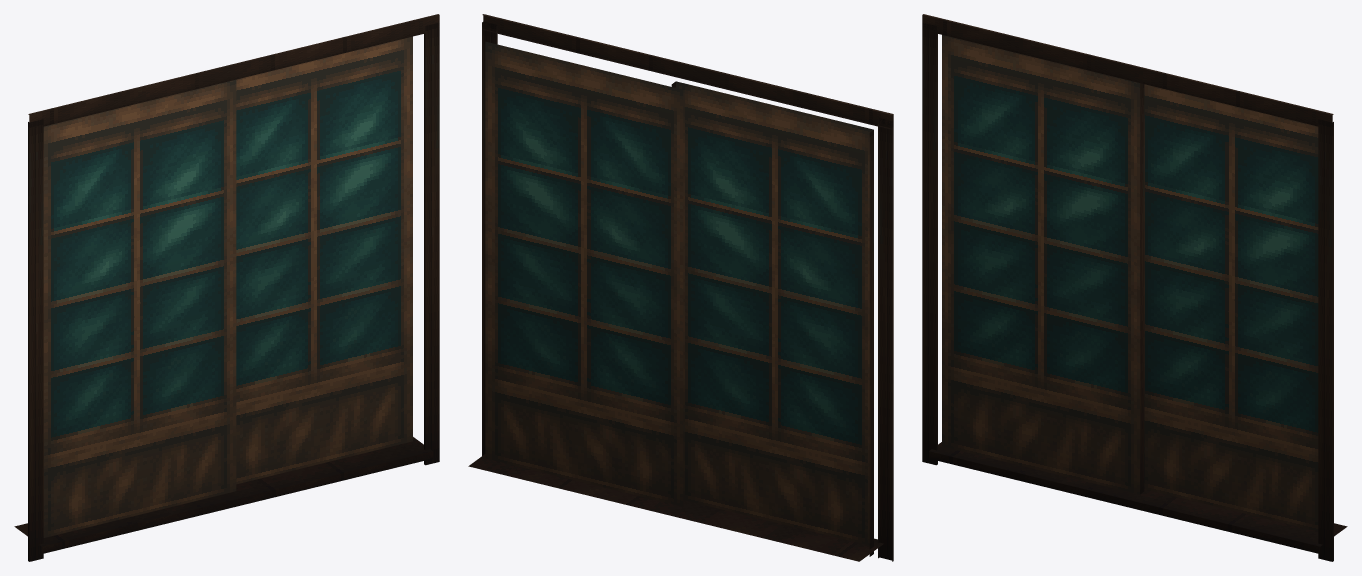
File: prop_sash-16-17-0.glb
The picture shows the model from 3 angles, left to right: view 1: azimuth 30°, elevation 25°; view 2: azimuth 150°, elevation 25°; view 3: azimuth 330°, elevation 25°; orthographic projection.
Parts seen in each view (by area): view 1: prop_sash-16-17-0; view 2: prop_sash-16-17-0; view 3: prop_sash-16-17-0.
Boxes of the visible parts, x1=… form: prop_sash-16-17-0: x1=14, y1=14, x2=439, y2=561; prop_sash-16-17-0: x1=468, y1=14, x2=893, y2=561; prop_sash-16-17-0: x1=922, y1=14, x2=1347, y2=561.
Size of the model in its own units: 1.72 by 1.79 by 0.2.
2 materials, 2 textured.
